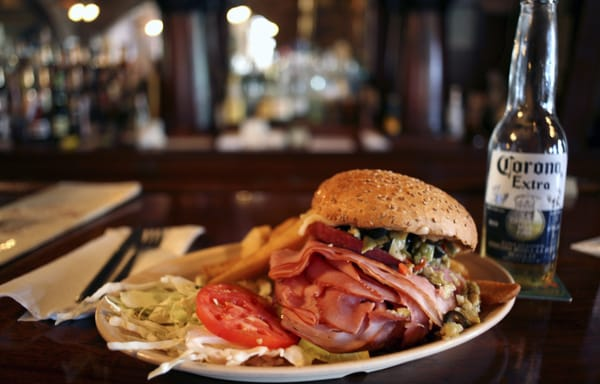soup: (266, 169, 481, 355)
